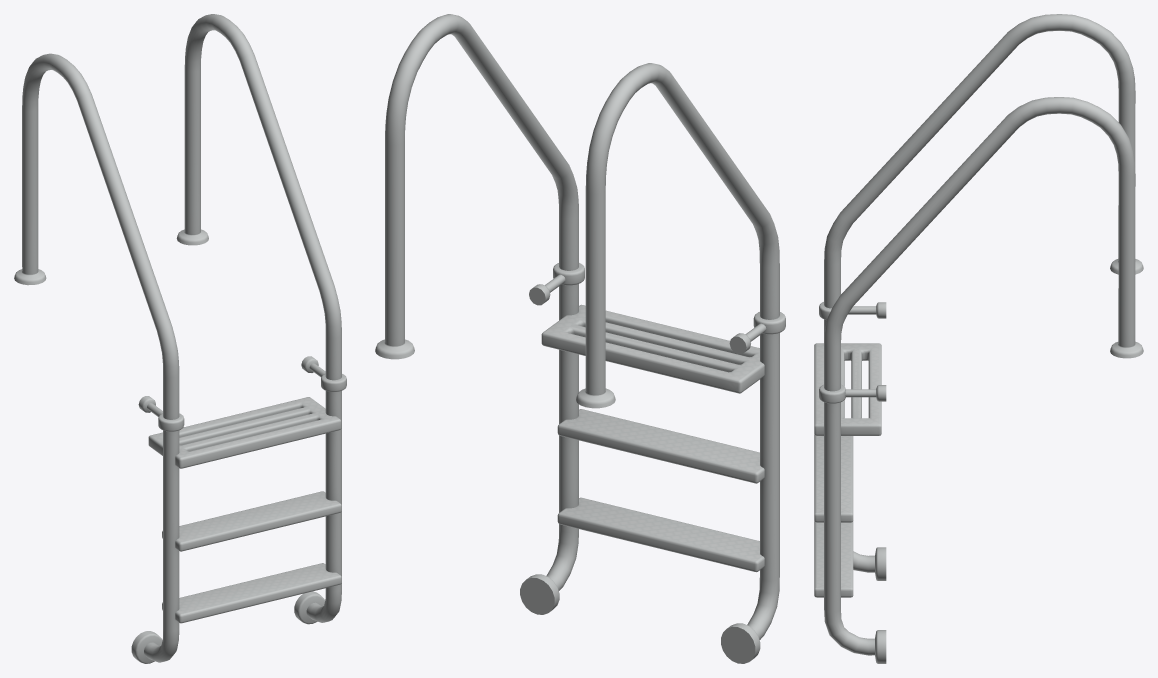
The model's file is PoolLadder01.FBX.
3 renders of one model, left to right at view 1: azimuth 30°, elevation 25°; view 2: azimuth 150°, elevation 25°; view 3: azimuth 270°, elevation 25°, orthographic. The views are drawn at different scales.
Parts seen in each view (by area): view 1: PoolLadder01; view 2: PoolLadder01; view 3: PoolLadder01.
Part boxes in pixels (left/top/right/bottom): PoolLadder01: left=14, top=14, right=346, bottom=663; PoolLadder01: left=375, top=14, right=785, bottom=663; PoolLadder01: left=814, top=14, right=1143, bottom=663.
Size of what is drawn, in the model's own units: 0.6788 by 1.84 by 0.9742.
